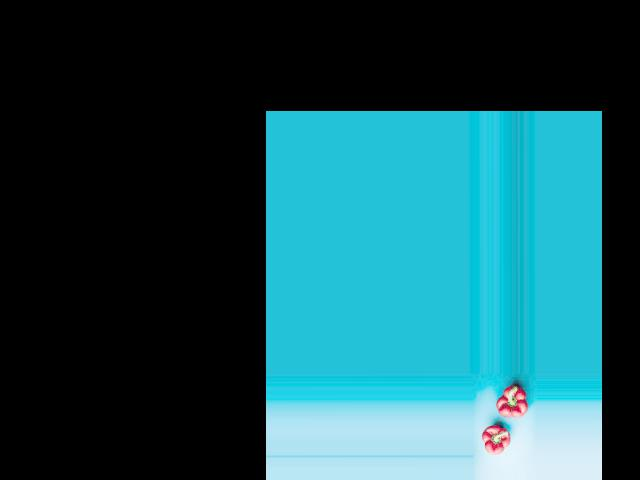bell_pepper: (492, 382, 527, 424)
